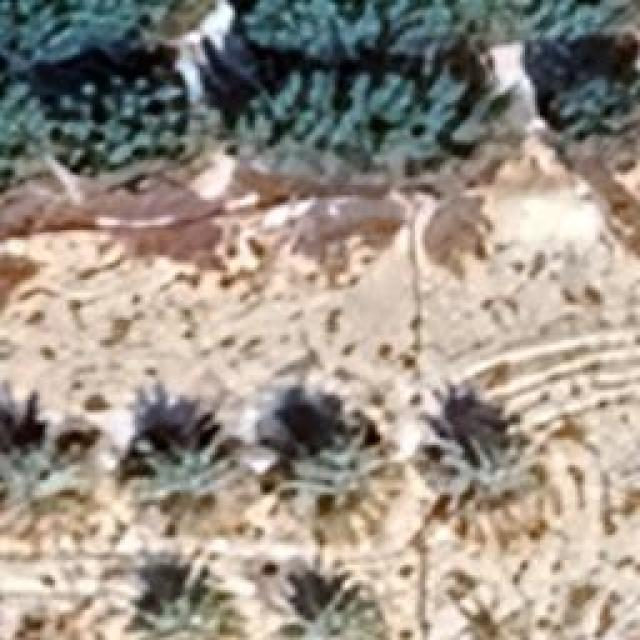PalmTree: (95, 101, 486, 461), (125, 405, 240, 535), (290, 430, 405, 542), (0, 442, 102, 547), (270, 574, 382, 638), (134, 592, 248, 638), (115, 98, 592, 101)
